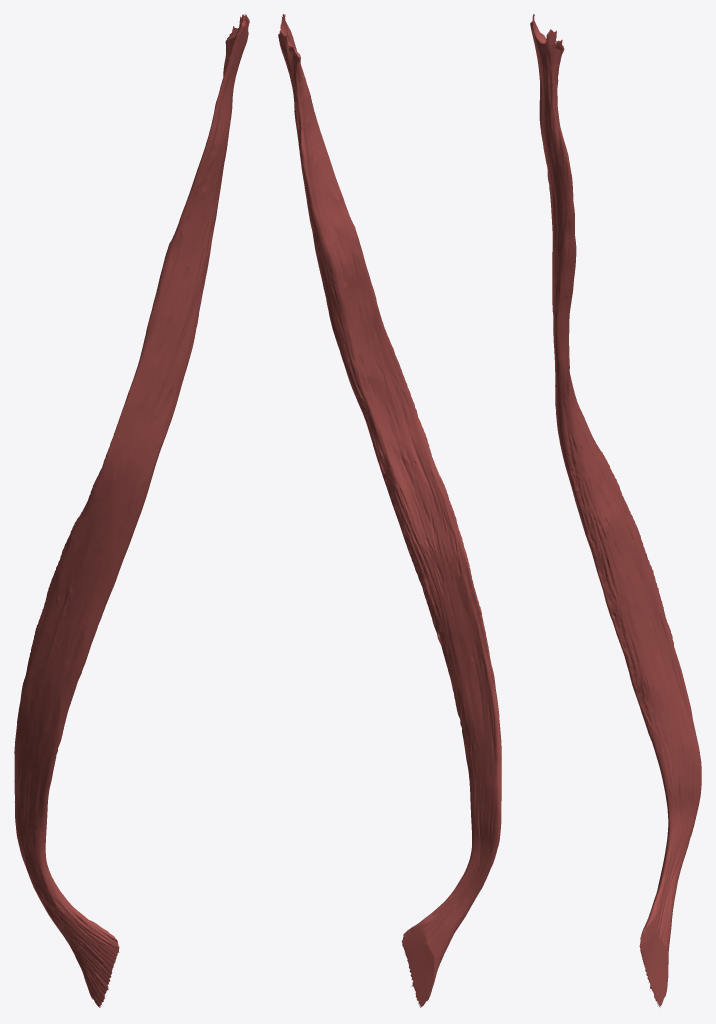
The model's file is FMA22355.glb.
3 renders of one model, left to right at view 1: azimuth 30°, elevation 25°; view 2: azimuth 210°, elevation 25°; view 3: azimuth 270°, elevation 25°, orthographic. The views are drawn at different scales.
Visible parts, largest first — view 1: FMA22355; view 2: FMA22355; view 3: FMA22355.
Part boxes in pixels (x1,y1,x2,y2): FMA22355: (14, 14, 249, 1007); FMA22355: (278, 14, 501, 1007); FMA22355: (530, 14, 701, 1007).
Size of the model in its own units: 0.0998 by 0.581 by 0.0872.
